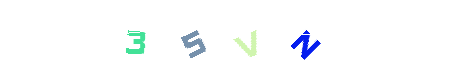3: (97, 0, 177, 80)
5: (158, 0, 238, 80)
N: (265, 0, 345, 80)
V: (195, 0, 275, 80)
